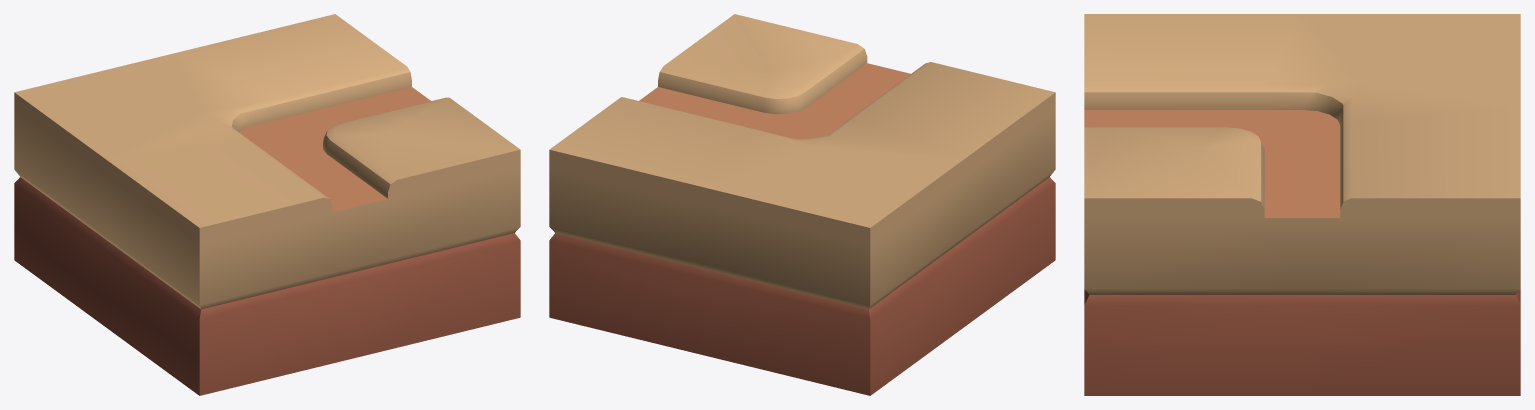
Rendered from square_sand_roadC_detail.glb.
3 renders of one model, left to right at view 1: azimuth 30°, elevation 25°; view 2: azimuth 150°, elevation 25°; view 3: azimuth 270°, elevation 25°, orthographic. The views are drawn at different scales.
Visible parts, largest first — view 1: square_sand_roadC_detail; view 2: square_sand_roadC_detail; view 3: square_sand_roadC_detail.
Part boxes in pixels (<box>): square_sand_roadC_detail: <box>14,14,520,395</box>; square_sand_roadC_detail: <box>549,14,1055,395</box>; square_sand_roadC_detail: <box>1084,14,1520,395</box>.
Size of the model in its own units: 2 by 1 by 2.
